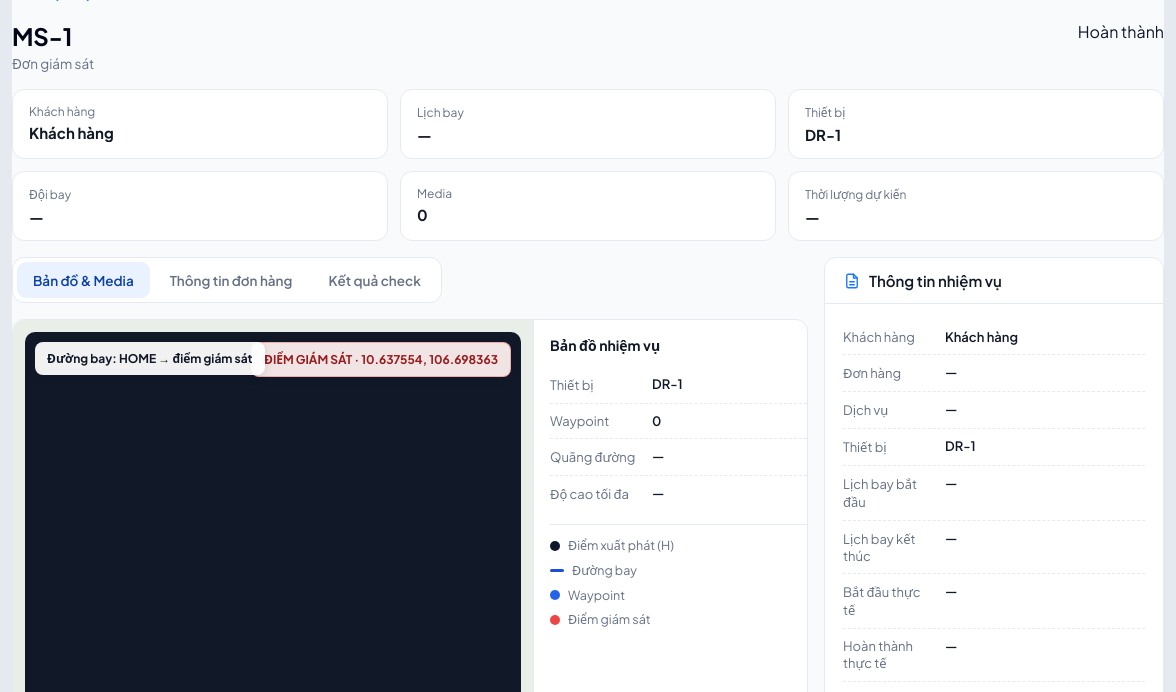
Test: Manager Mission Detail monitoring review › shows the complete source order in a dedicated tab
Click the tab "Thông tin đơn hàng" at (231, 280), box [154,262,308,298]
(page scrolled)
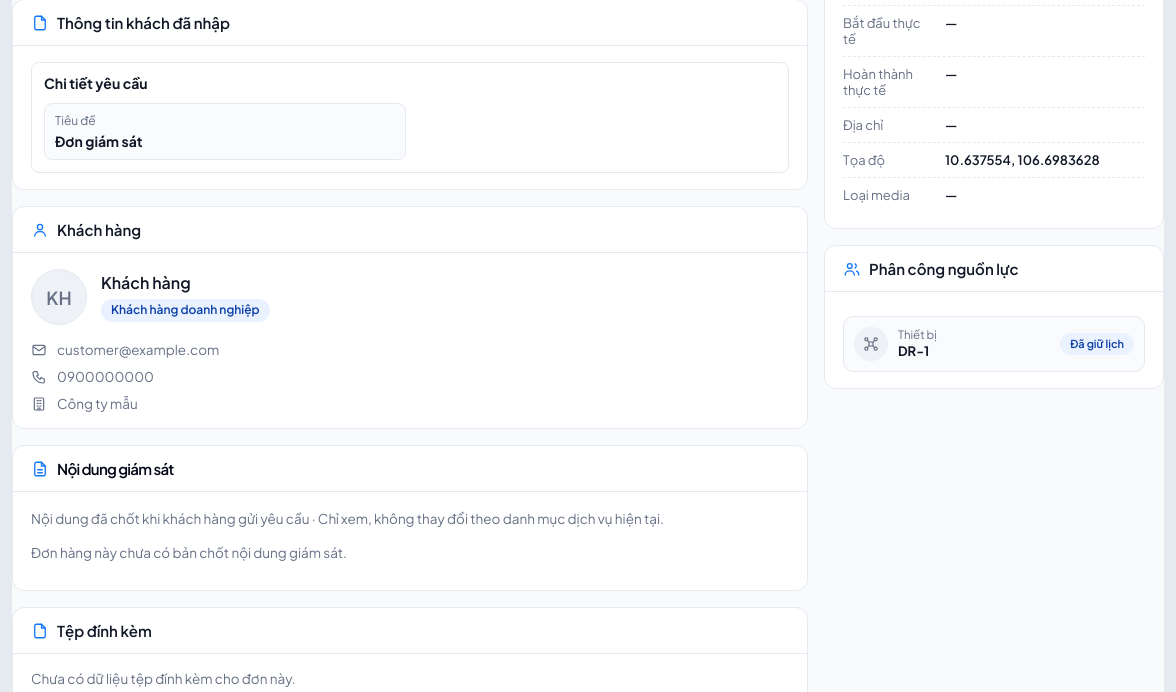
Expected: the text "Thông tin khách đã nhập" is shown, [31,13,230,32]
Expected: the text "customer@example.com" is shown, [57,341,219,358]
